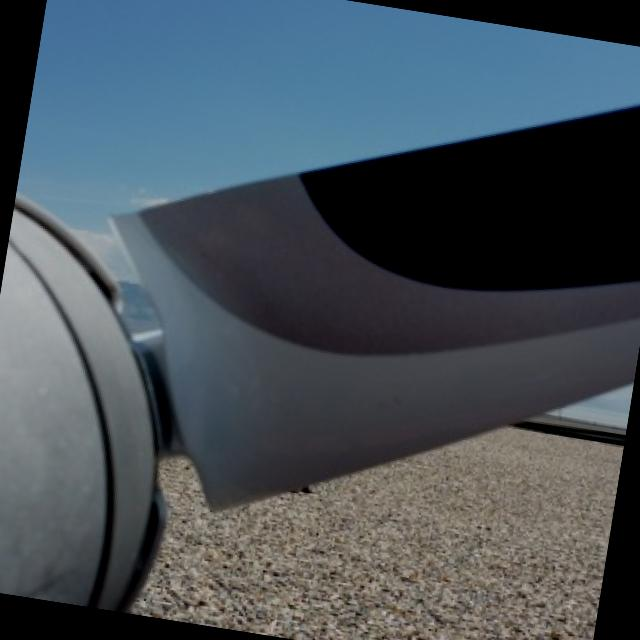healthy: (133, 427, 624, 640)
